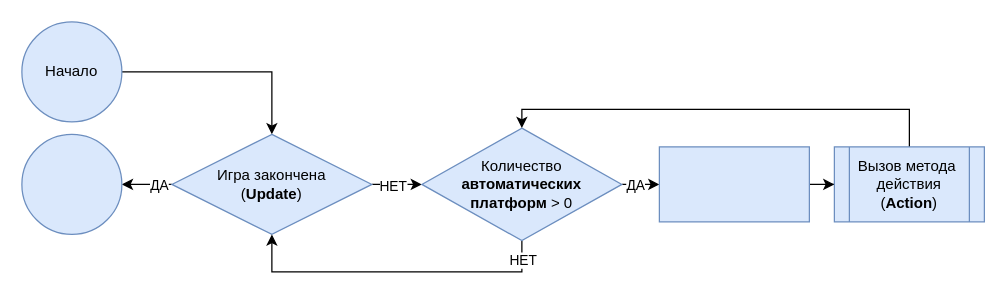
This 1006x304 diagram has some shape labels left out. The shapes that lost their labels are listed below. From the top down, each one's centre as x and y in pixels, then its label:
At point (71, 183): "Конец".
At point (733, 184): "Взять платформу из списка".
